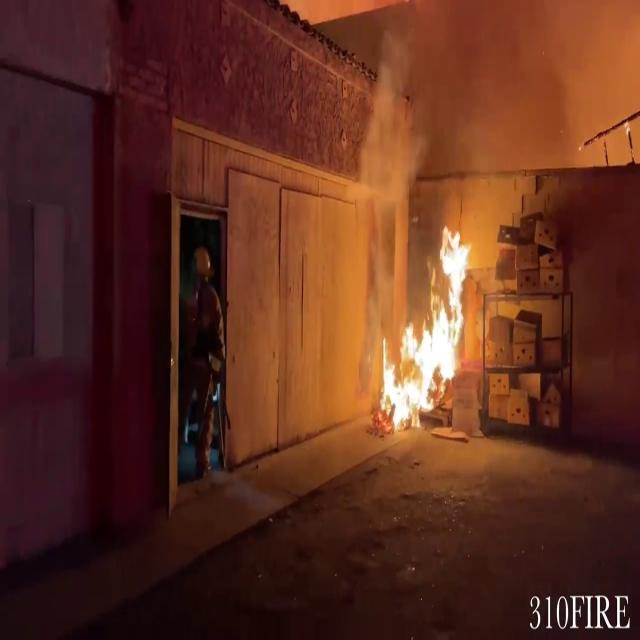Fire: (376, 221, 477, 428)
